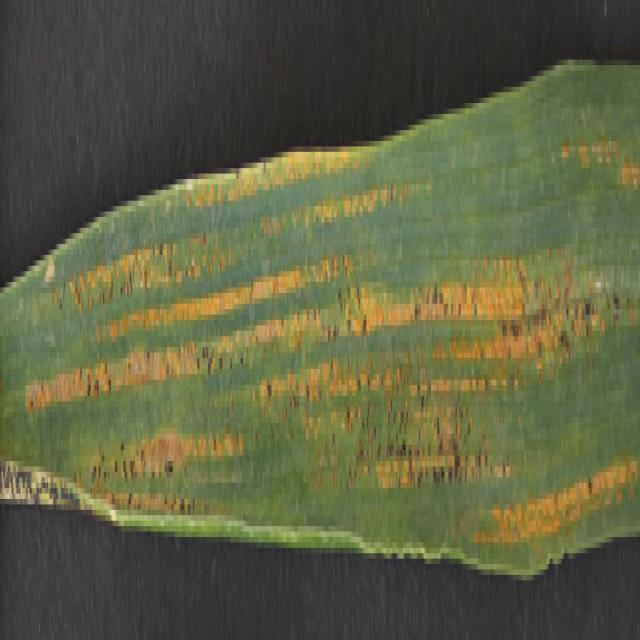leaf rust: (12, 120, 638, 542)
